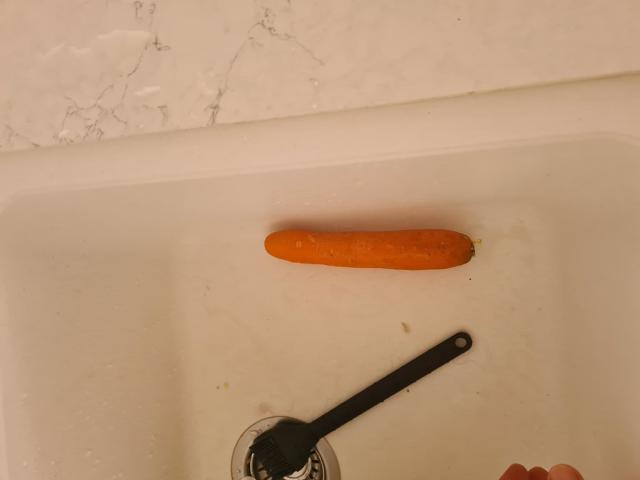carrot: (264, 221, 478, 276)
